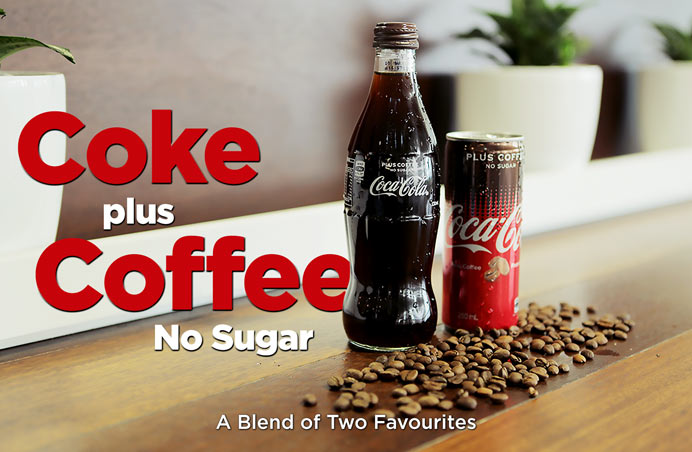coke: (350, 23, 439, 348), (444, 132, 522, 327)
